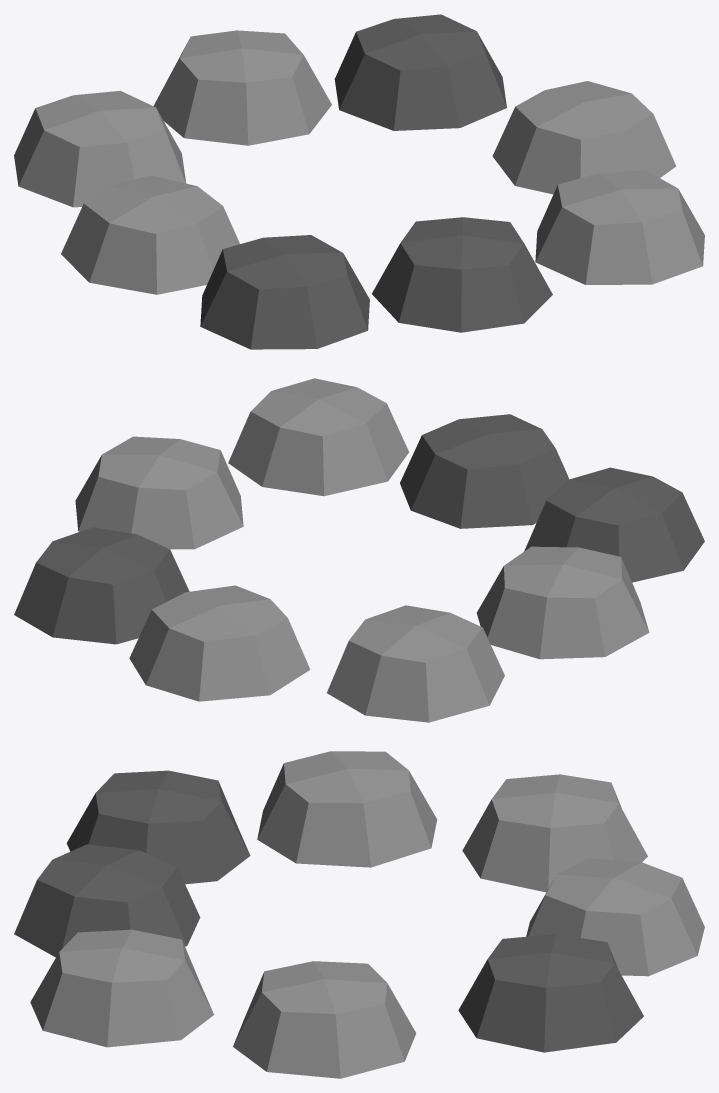
File: Bonfirestones.fbx
The picture shows the model from 3 angles, top to bottom: view 1: azimuth 30°, elevation 25°; view 2: azimuth 150°, elevation 25°; view 3: azimuth 270°, elevation 25°; orthographic projection. The views are drawn at different scales.
Visible parts, largest first — view 1: BonfireStones; view 2: BonfireStones; view 3: BonfireStones.
Boxes of the visible parts, left/top/right/bottom form: BonfireStones: left=14, top=14, right=704, bottom=349; BonfireStones: left=14, top=378, right=704, bottom=722; BonfireStones: left=14, top=751, right=704, bottom=1078.
Size of the model in its own units: 0.8648 by 0.0854 by 0.8791.
Materials: 1 (1 with a texture image).
